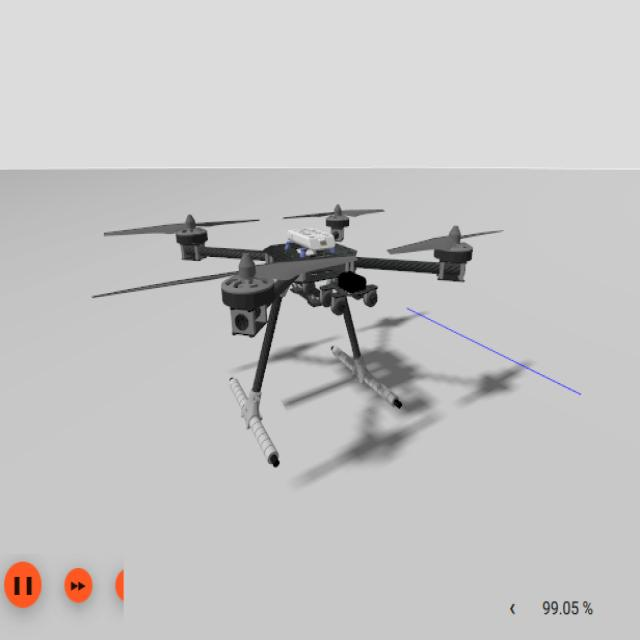drone: (104, 197, 494, 475)
